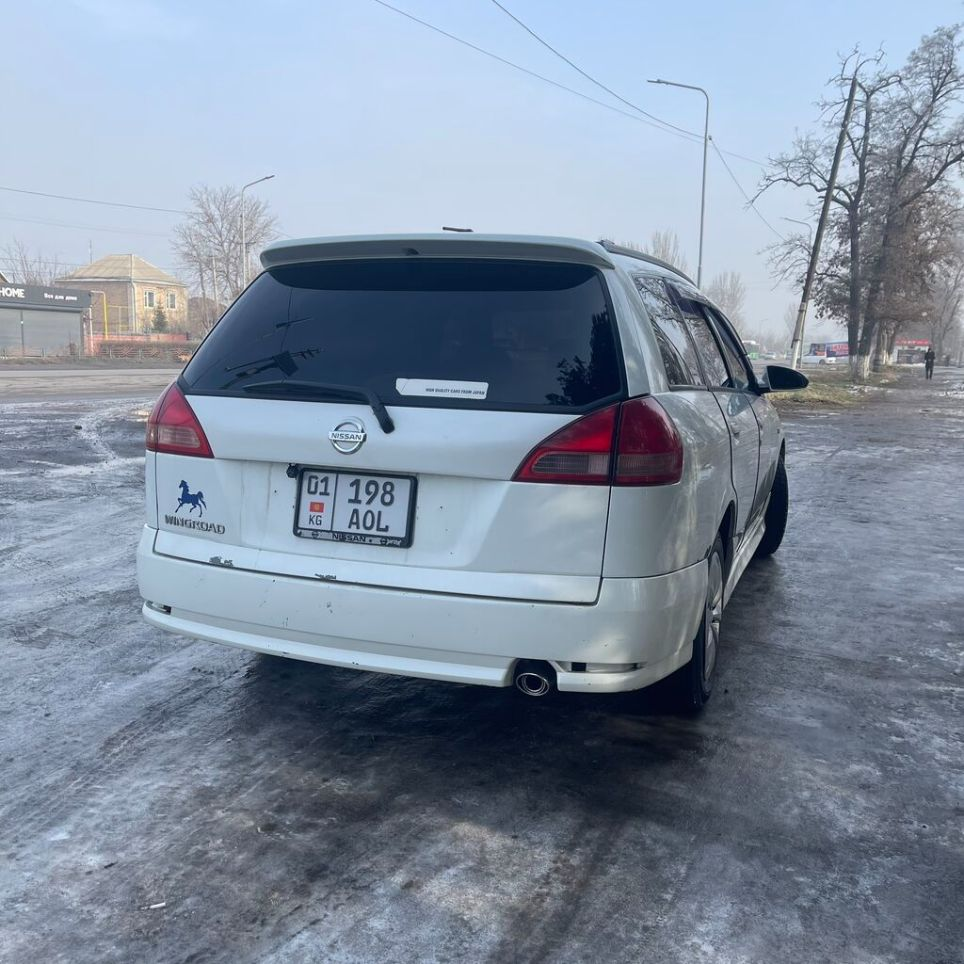license plate: (294, 466, 416, 551)
truck: (134, 229, 799, 727)
